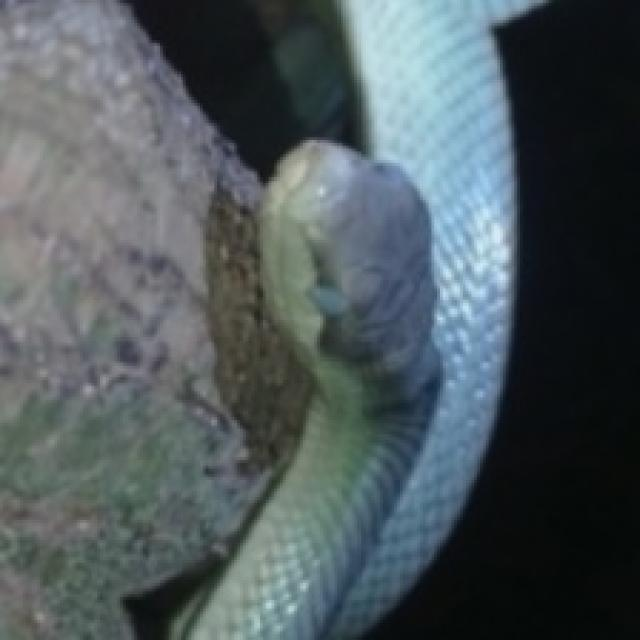red-tailed green ratsnake: (169, 0, 543, 639)
